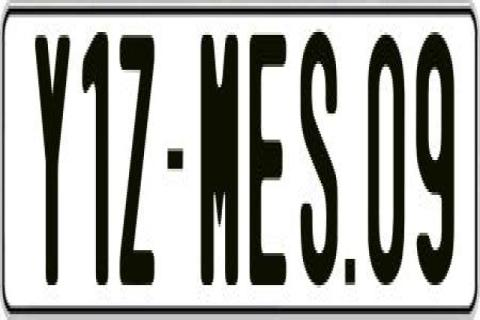0: (414, 29, 460, 288), (366, 32, 402, 300), (80, 29, 112, 282)
E: (247, 32, 284, 300)
M: (201, 29, 239, 291)
S: (299, 29, 339, 294)
Y: (34, 32, 74, 288)
Z: (118, 29, 160, 294)
